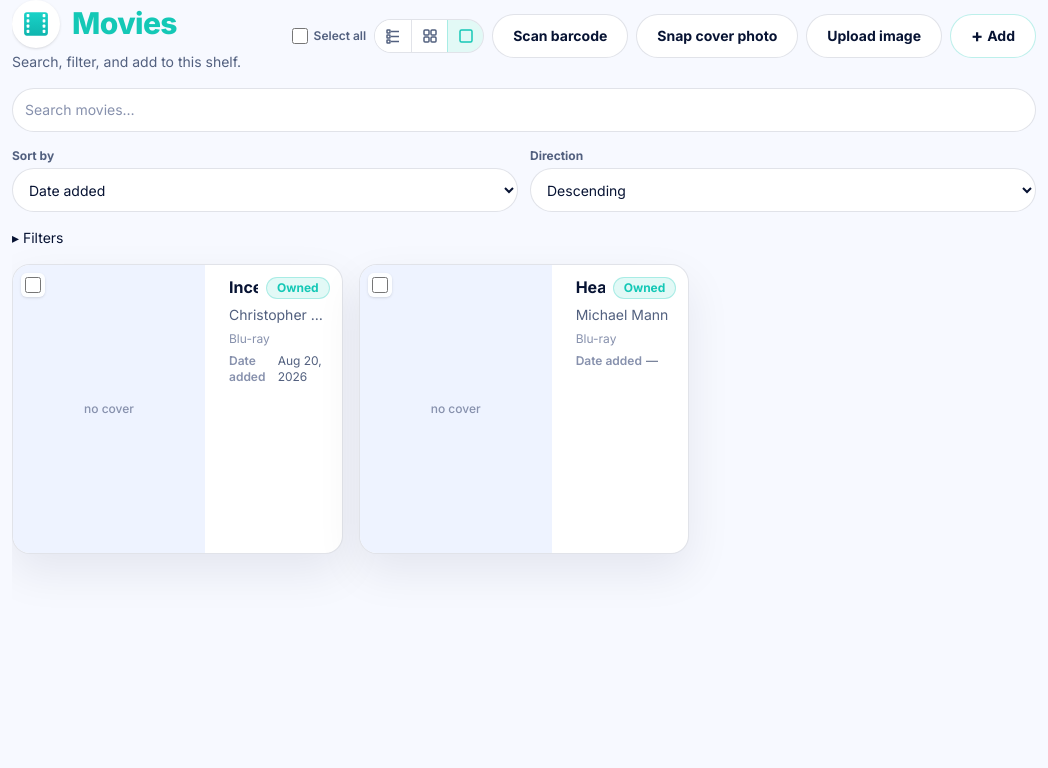
CollectionList — bulk select + update › shows the bulk bar with the correct count when a card is selected, and hides it on deselect
This screenshot has width=1048, height=768.
Expected: the heading "Inception" is shown, [229,277,258,297]
Click the checkbox named "Select item" in the row of "Inception" at (33, 285), box [25,277,41,293]
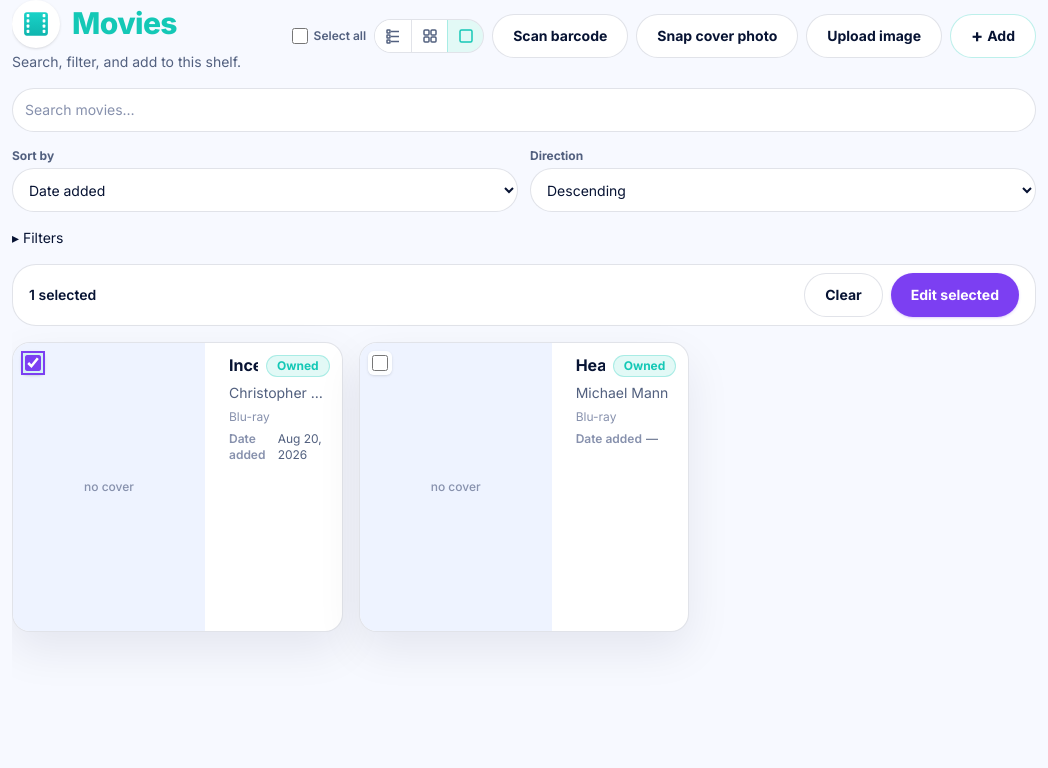
Expected: the text "1 selected" is shown, [29,285,96,305]
Click the checkbox named "Select item" in the row of "Inception" at (33, 363), box [25,355,41,371]
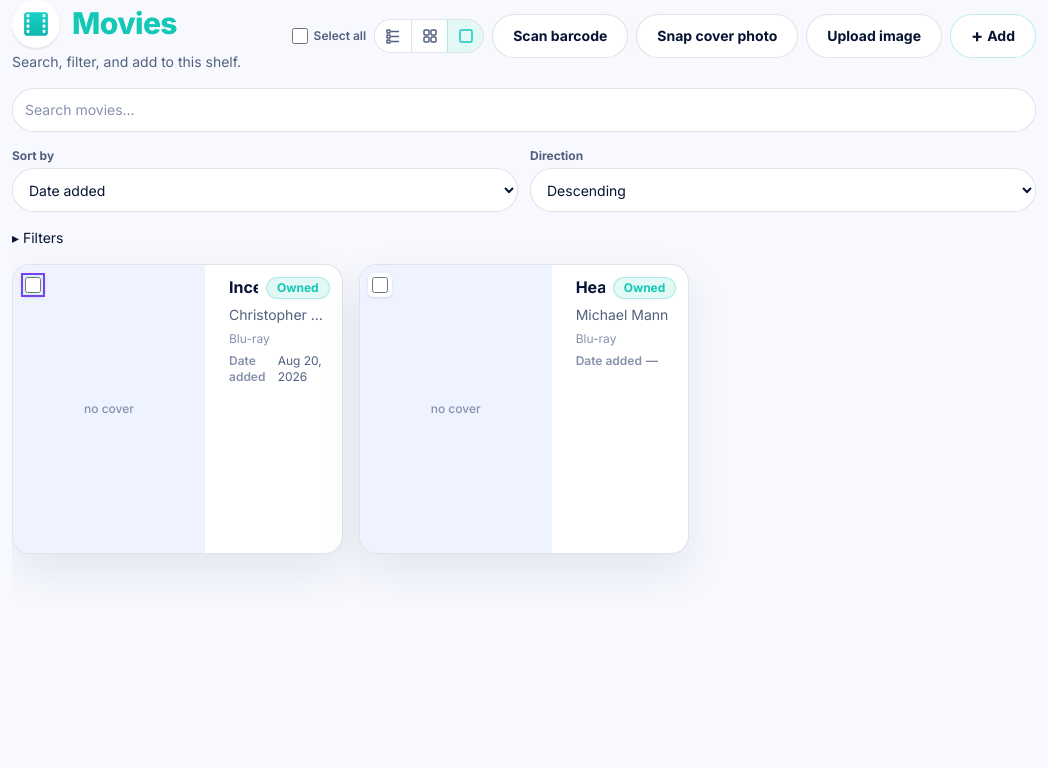
Expected: the text "1 selected" is gone
